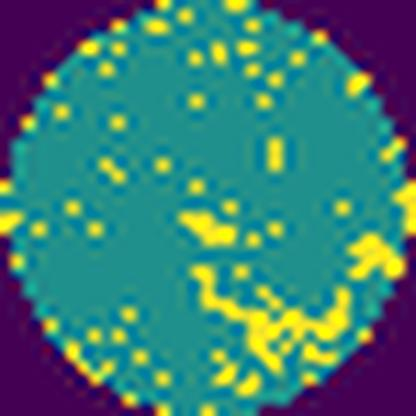Loc: (188, 262, 349, 371), (180, 208, 236, 248), (350, 238, 400, 278)
